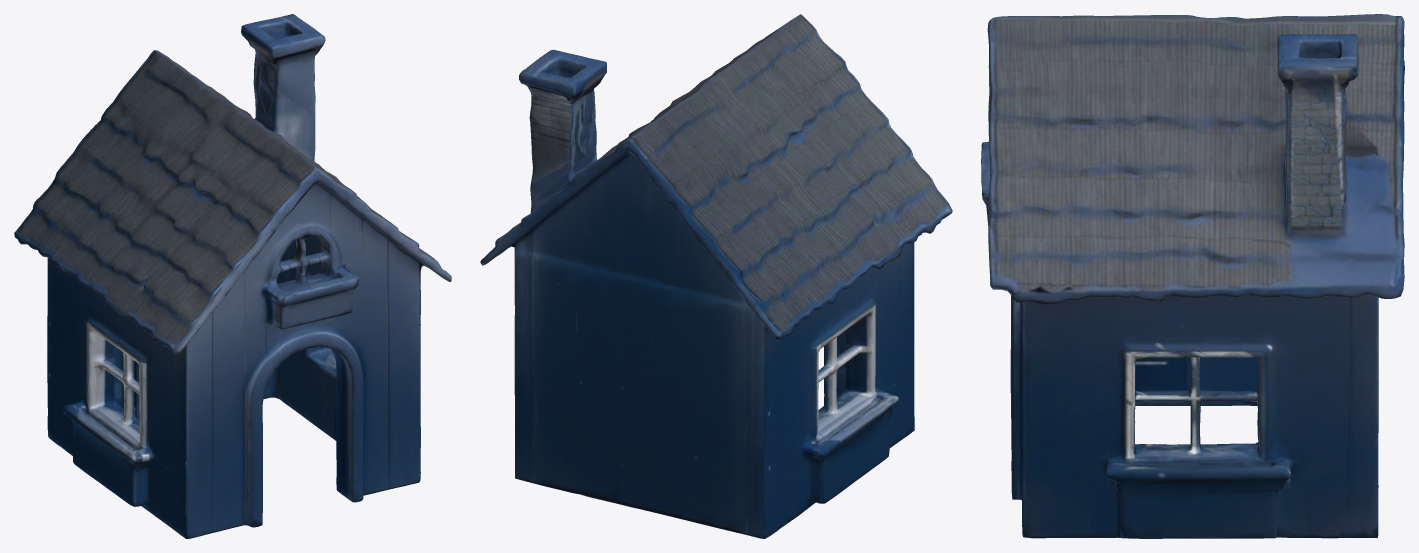
Rendered from doghouse.glb.
3 renders of one model, left to right at view 1: azimuth 30°, elevation 25°; view 2: azimuth 150°, elevation 25°; view 3: azimuth 270°, elevation 25°, orthographic. The views are drawn at different scales.
Visible parts, largest first — view 1: model; view 2: model; view 3: model.
Part boxes in pixels (x1=…): model: x1=14, y1=14, x2=451, y2=538; model: x1=480, y1=14, x2=952, y2=538; model: x1=981, y1=14, x2=1404, y2=538.
Bounding box in the file's own units: 1.62 × 2 × 1.61.
Materials: 1 (1 with a texture image).
